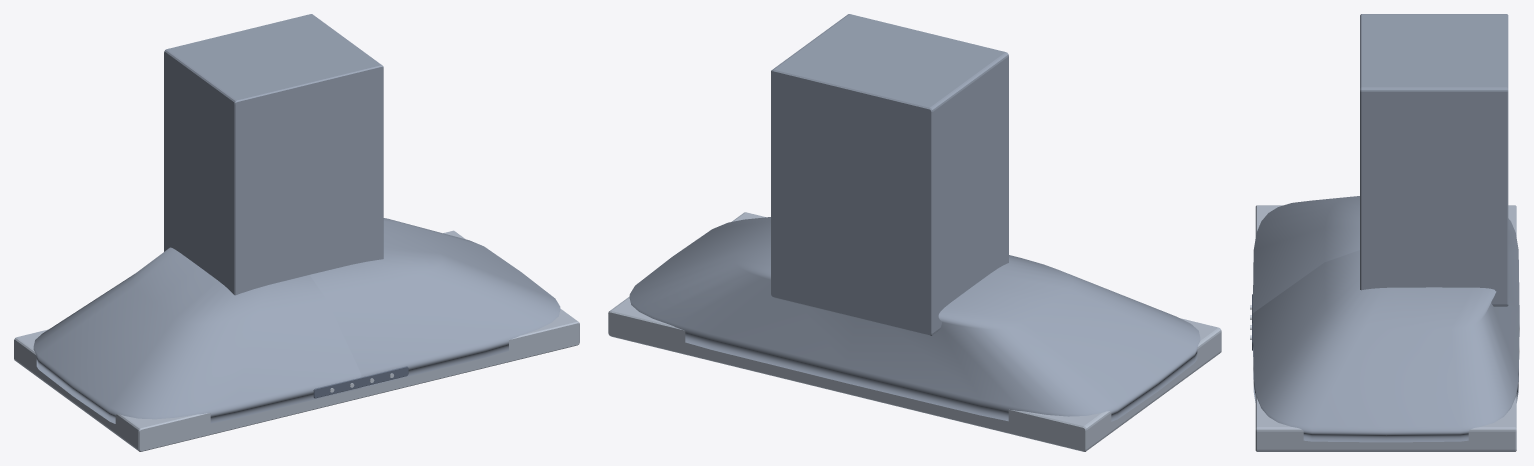
Rendered from rangehood.glb.
3 views of the same model, side by side, from view 1: azimuth 30°, elevation 25°; view 2: azimuth 150°, elevation 25°; view 3: azimuth 270°, elevation 25° (orthographic). The views are drawn at different scales.
Parts seen in each view (by area): view 1: body, soft, dark; view 2: body, soft; view 3: body, soft.
Boxes of the visible parts, bbox=[...] form: body: bbox=[33, 14, 560, 423]; soft: bbox=[14, 230, 579, 451]; dark: bbox=[313, 366, 408, 398]; body: bbox=[629, 14, 1200, 421]; soft: bbox=[608, 212, 1221, 451]; body: bbox=[1252, 14, 1519, 442]; soft: bbox=[1255, 205, 1516, 451].
Bounding box in the file's own units: 0.9 × 0.55 × 0.45.
